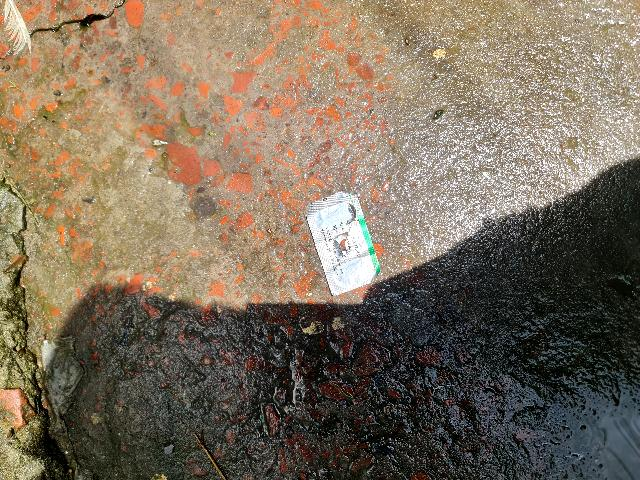medicine: (292, 182, 394, 309)
